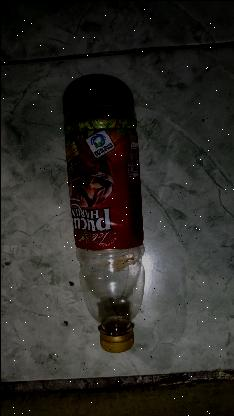Plastic Bottle: (62, 104, 144, 352)
